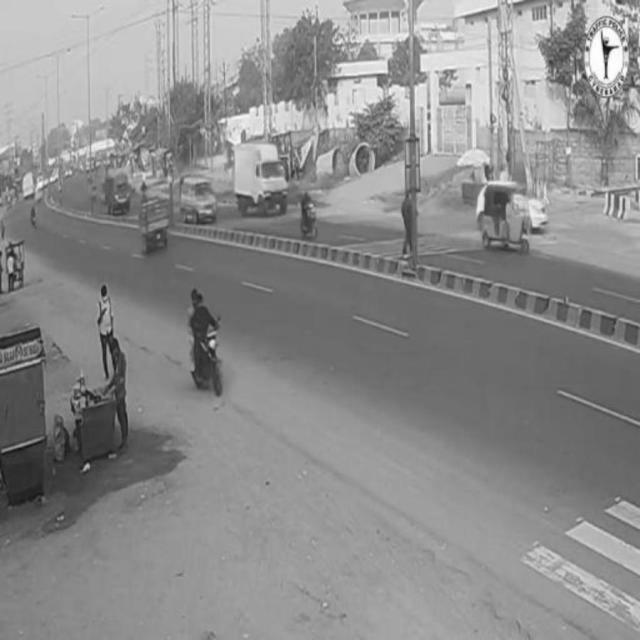person: (107, 331, 135, 452), (92, 282, 120, 374)
vehicle: (234, 142, 288, 220), (187, 292, 227, 394), (483, 185, 534, 255), (136, 198, 173, 252), (181, 176, 218, 226), (298, 189, 322, 240)
